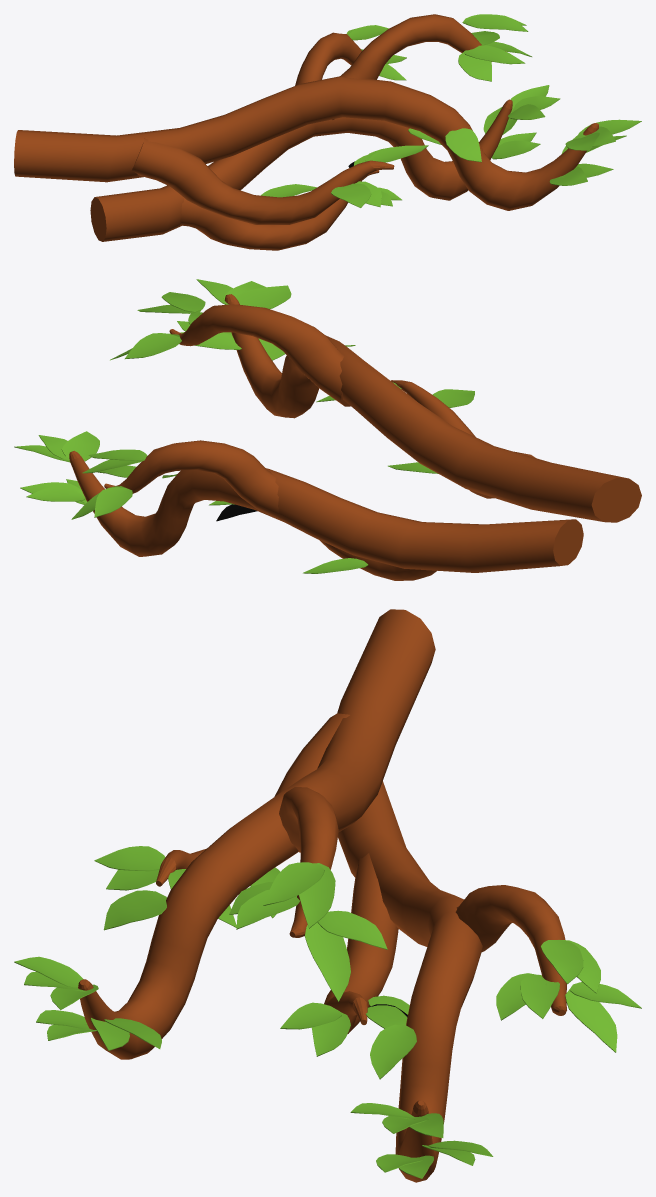
The model's file is Platform_Branch.FBX.
3 views of the same model, one above another, from view 1: azimuth 30°, elevation 25°; view 2: azimuth 150°, elevation 25°; view 3: azimuth 270°, elevation 25° (orthographic). The views are drawn at different scales.
Visible parts, largest first — view 1: Line046; view 2: Line046; view 3: Line046.
Part boxes in pixels (x1,y1,x2,y2): Line046: (14, 14, 641, 250); Line046: (14, 279, 641, 580); Line046: (14, 609, 641, 1182).
Size of the model in its own units: 302 by 115 by 201.
